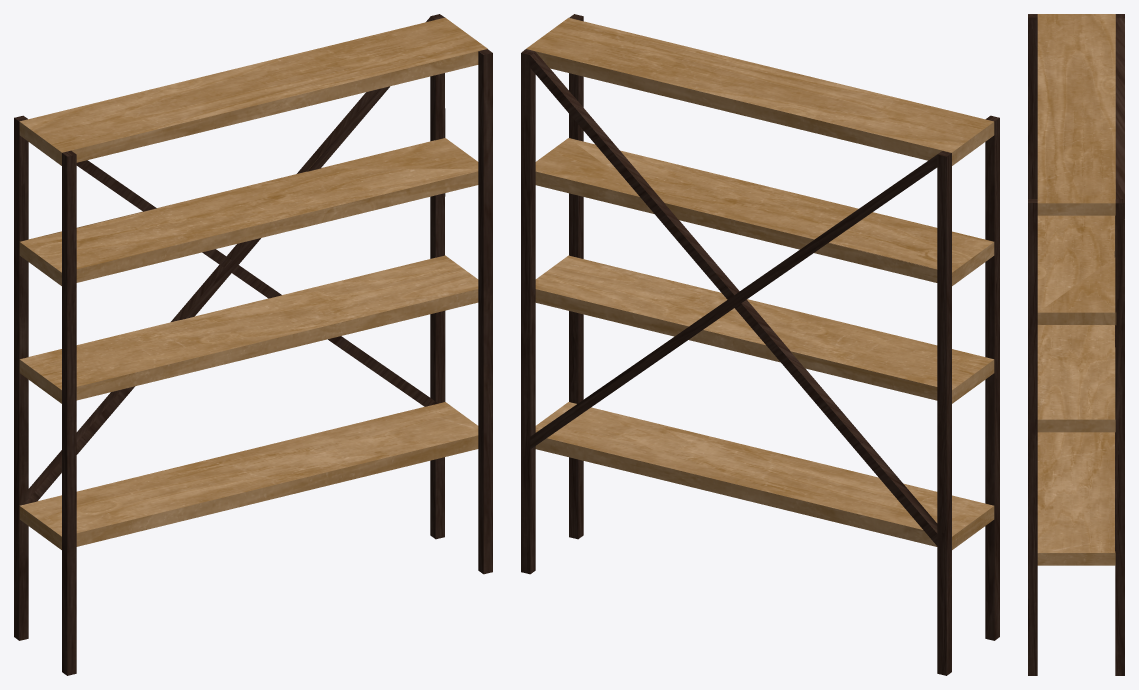
File: shelving.fbx
The picture shows the model from 3 angles, left to right: view 1: azimuth 30°, elevation 25°; view 2: azimuth 150°, elevation 25°; view 3: azimuth 270°, elevation 25°; orthographic projection. The views are drawn at different scales.
Parts seen in each view (by area): view 1: pCube11; view 2: pCube11; view 3: pCube11.
Boxes of the visible parts, x1,y1,x2,y2 form: pCube11: (14, 14, 492, 675); pCube11: (521, 14, 999, 675); pCube11: (1028, 14, 1124, 675).
Bounding box in the file's own units: 371 × 80.22 × 432.
1 material, 1 textured.
